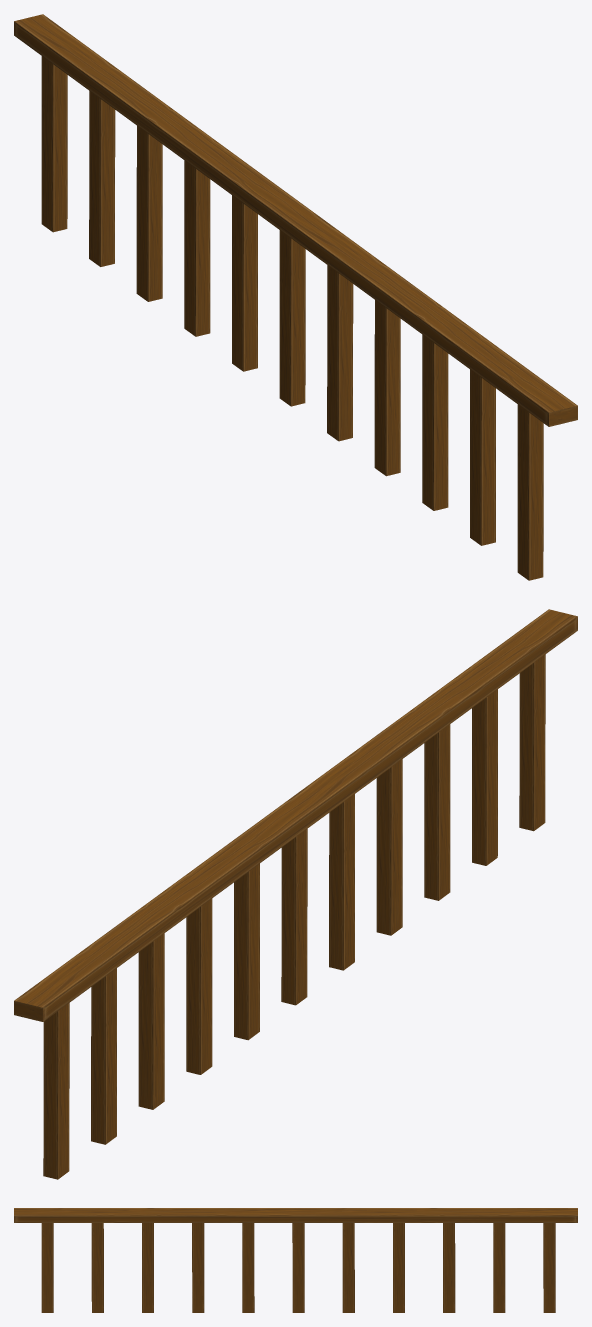
The model's file is SM_Stairs_Interior_C_Handrails_Top_04.fbx.
3 views of the same model, one above another, from view 1: azimuth 30°, elevation 25°; view 2: azimuth 150°, elevation 25°; view 3: azimuth 270°, elevation 25° (orthographic). The views are drawn at different scales.
Visible parts, largest first — view 1: SM_Stairs_Interior_C_Handrails_Top_04; view 2: SM_Stairs_Interior_C_Handrails_Top_04; view 3: SM_Stairs_Interior_C_Handrails_Top_04.
Boxes of the visible parts, box(x1,y1,x2,y2) form: SM_Stairs_Interior_C_Handrails_Top_04: box(14, 14, 577, 580); SM_Stairs_Interior_C_Handrails_Top_04: box(14, 609, 577, 1179); SM_Stairs_Interior_C_Handrails_Top_04: box(14, 1208, 577, 1312).
Size of the model in its own units: 0.1479 by 0.9176 by 4.71.
